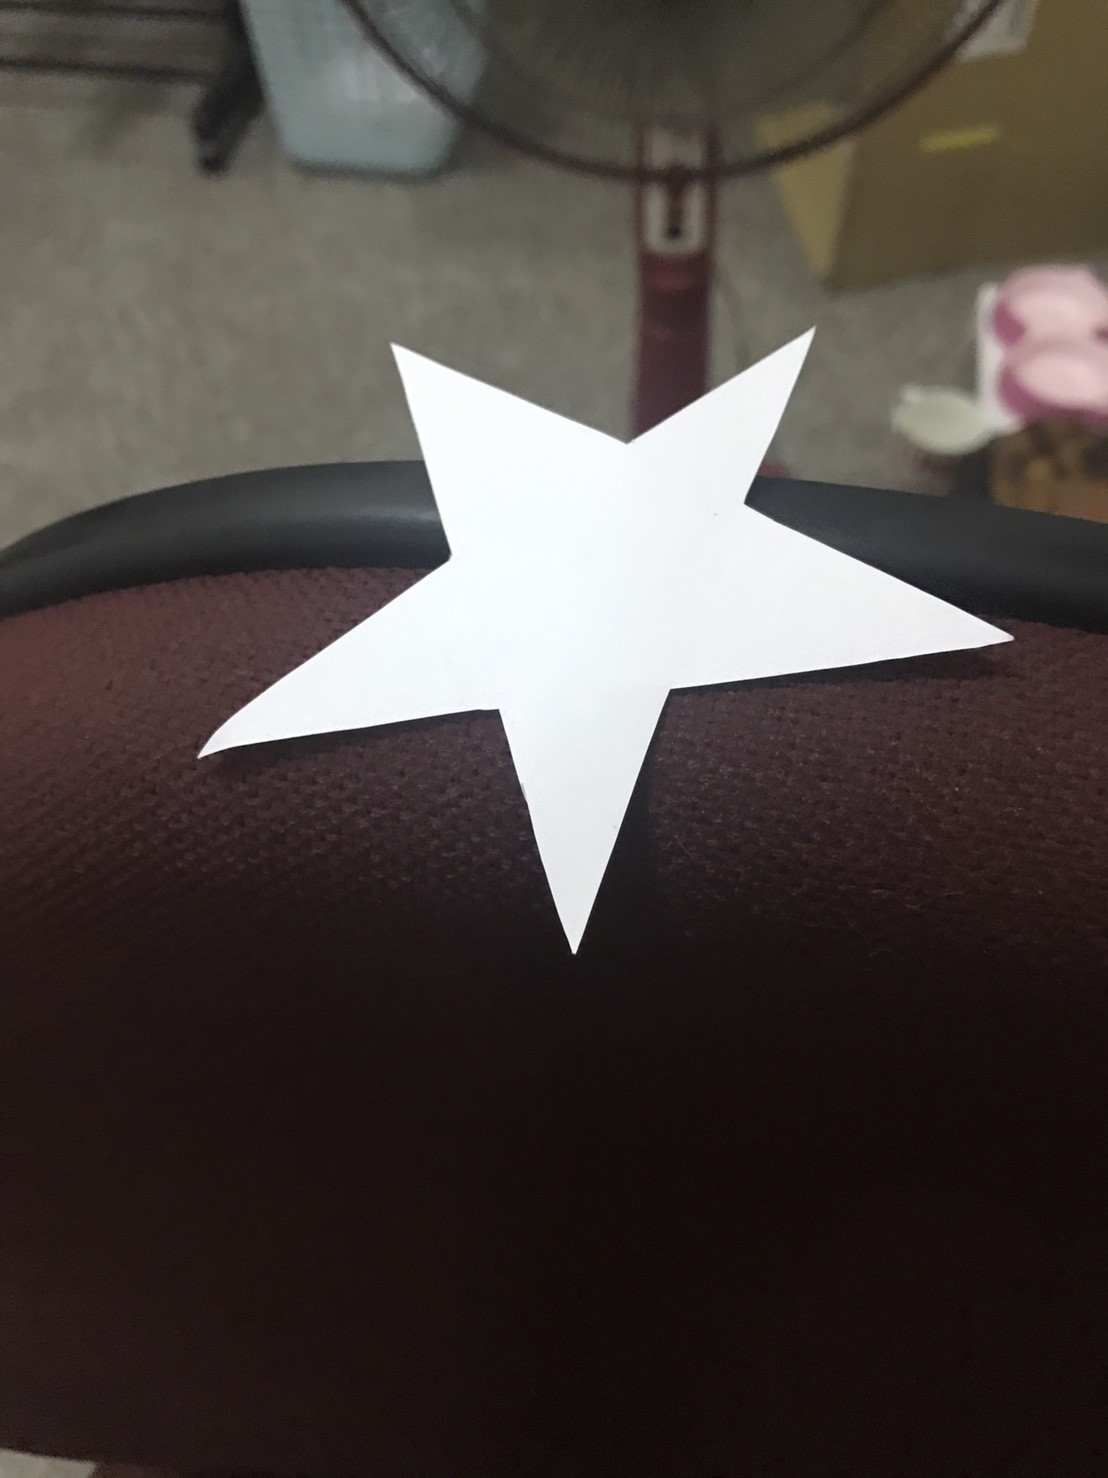star: (166, 293, 1051, 997)
